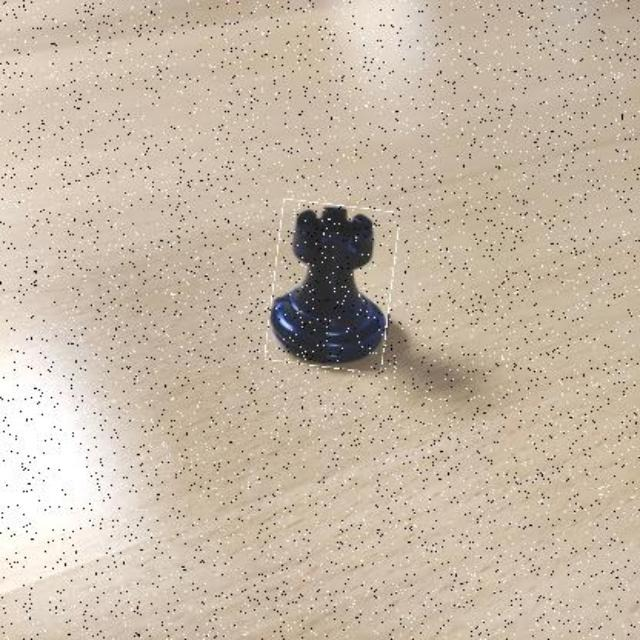black-rook: (269, 201, 395, 368)
